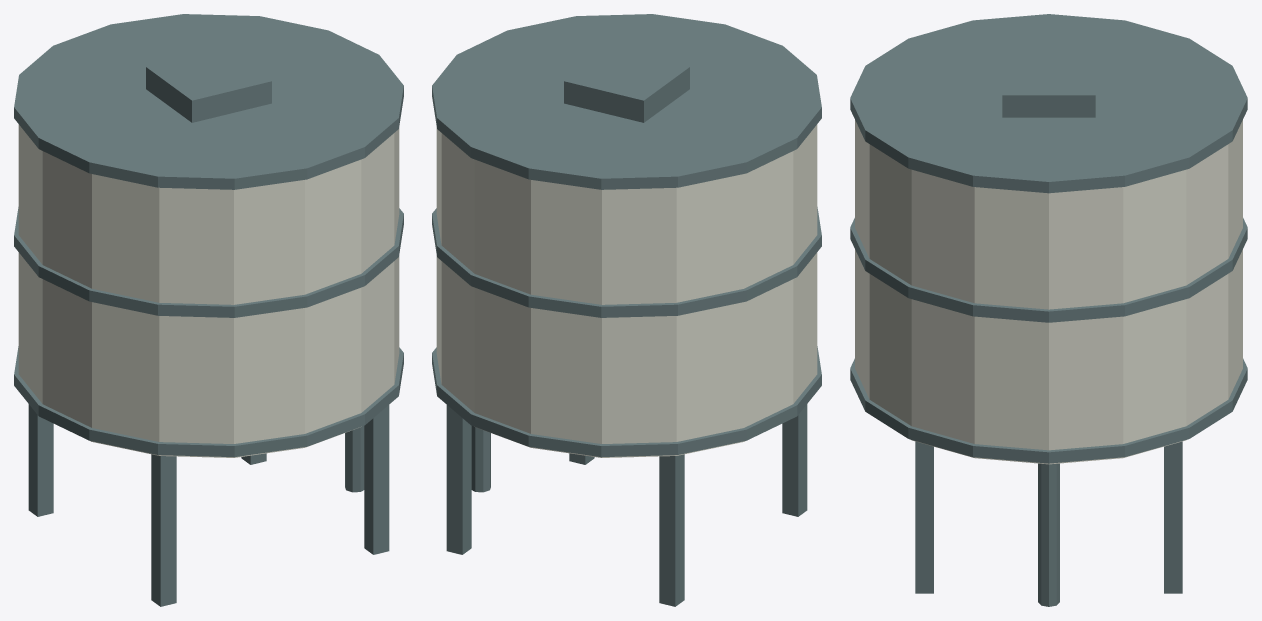
Rendered from roof_tank.fbx.
3 renders of one model, left to right at view 1: azimuth 30°, elevation 25°; view 2: azimuth 150°, elevation 25°; view 3: azimuth 270°, elevation 25°, orthographic.
Visible parts, largest first — view 1: roof_tank__tank, roof_tank__tank_hoop.002, roof_tank__cap, roof_tank__tank_hoop, roof_tank__tank_hoop.001, roof_tank__support, roof_tank__support.002, roof_tank__support.001, roof_tank__feed_pipe; view 2: roof_tank__tank, roof_tank__tank_hoop.002, roof_tank__cap, roof_tank__tank_hoop, roof_tank__tank_hoop.001, roof_tank__support.001, roof_tank__support.003, roof_tank__support, roof_tank__feed_pipe; view 3: roof_tank__tank, roof_tank__tank_hoop.002, roof_tank__tank_hoop, roof_tank__tank_hoop.001, roof_tank__cap, roof_tank__feed_pipe, roof_tank__support.002, roof_tank__support.003.
Part boxes in pixels (box(x1,y1,x2,y2)): roof_tank__tank: box(18, 124, 399, 457); roof_tank__tank_hoop.002: box(14, 14, 403, 189); roof_tank__cap: box(146, 47, 271, 122); roof_tank__tank_hoop: box(14, 346, 403, 457); roof_tank__tank_hoop.001: box(14, 207, 403, 317); roof_tank__support: box(151, 454, 176, 606); roof_tank__support.002: box(364, 405, 389, 554); roof_tank__support.001: box(28, 404, 53, 516); roof_tank__feed_pipe: box(345, 426, 364, 492); roof_tank__tank: box(436, 124, 817, 457); roof_tank__tank_hoop.002: box(432, 14, 821, 189); roof_tank__cap: box(564, 47, 689, 122); roof_tank__tank_hoop: box(432, 346, 821, 457); roof_tank__tank_hoop.001: box(432, 207, 821, 317); roof_tank__support.001: box(659, 454, 684, 606); roof_tank__support.003: box(446, 405, 471, 554); roof_tank__support: box(782, 404, 807, 516); roof_tank__feed_pipe: box(471, 426, 490, 492); roof_tank__tank: box(855, 120, 1242, 464); roof_tank__tank_hoop.002: box(850, 14, 1247, 193); roof_tank__tank_hoop: box(850, 358, 1247, 463); roof_tank__tank_hoop.001: box(850, 218, 1247, 322); roof_tank__cap: box(1002, 55, 1095, 117); roof_tank__feed_pipe: box(1038, 463, 1059, 606); roof_tank__support.002: box(915, 441, 933, 593); roof_tank__support.003: box(1164, 441, 1182, 593).
Bounding box in the file's own units: 256 × 328 × 256.
